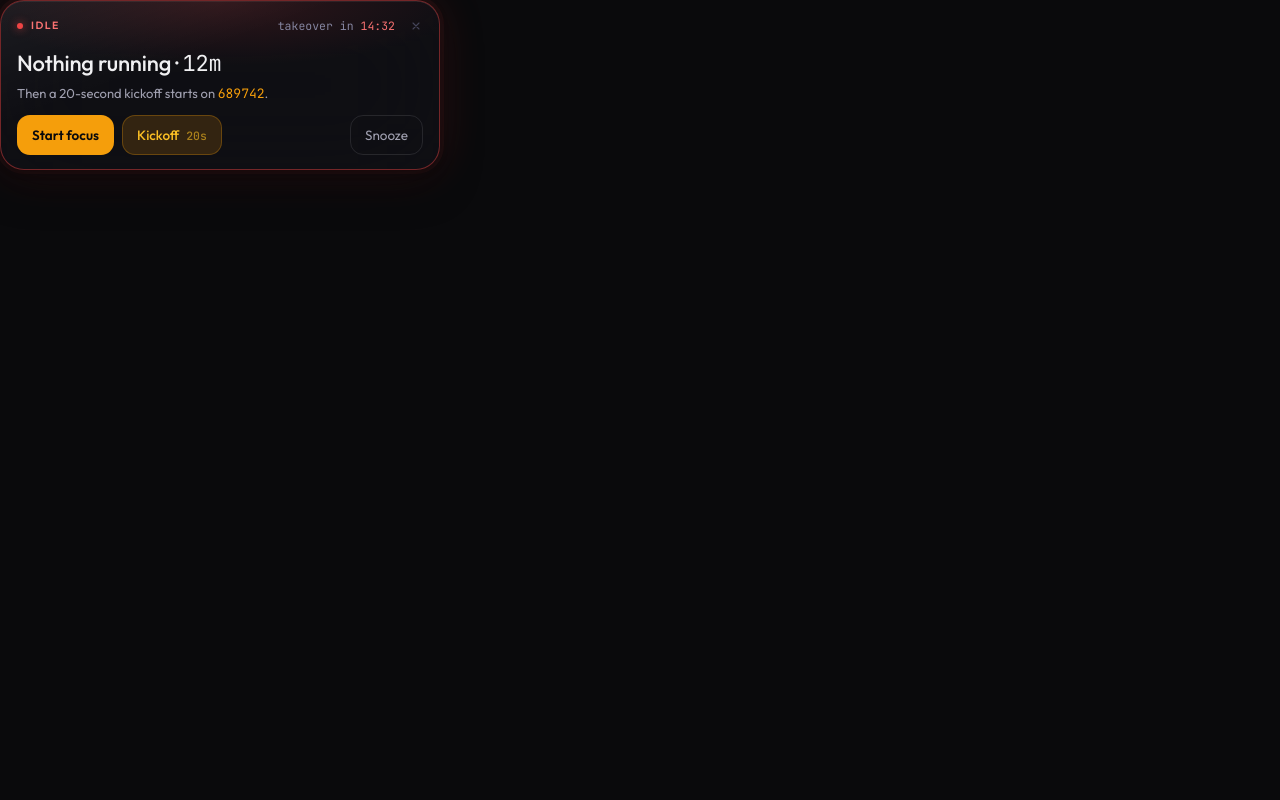
IdleNudgeCard › DRIP_IDLE_FAST lengths: 20-second kickoff, Kickoff 20s, snooze choices 30s / 1m / Rest of day
Expected: the element with test id "nudge-copy" reads "Then a 20-second kickoff starts on 689742.", [17,85,268,102]
Expected: the button "Kickoff 20s" is shown, [122,115,222,155]
Click the button "Snooze" at {"x": 386, "y": 135}, box [350,115,423,155]
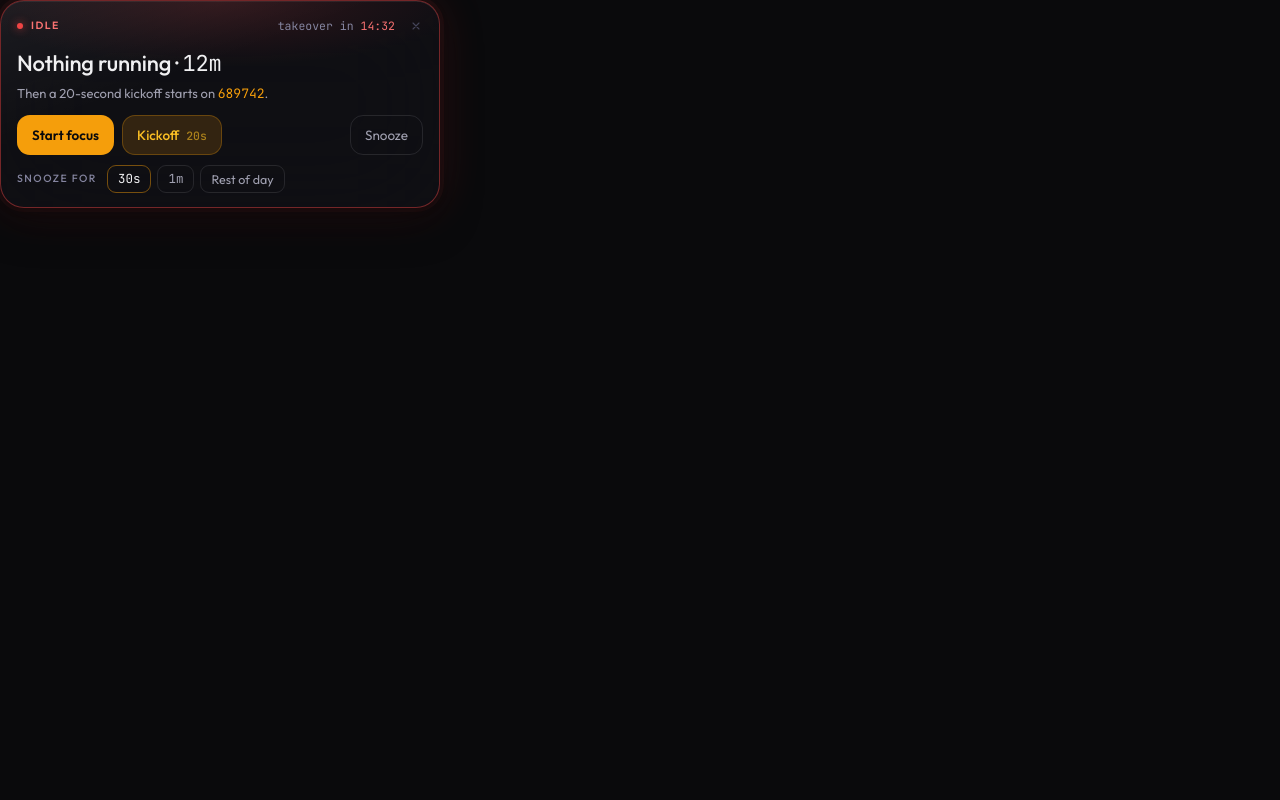
Result: the button "30s" is shown at [107,165,151,193]
Result: the button "1m" is shown at [158,165,194,193]
Result: the button "Rest of day" is shown at [200,165,285,193]
